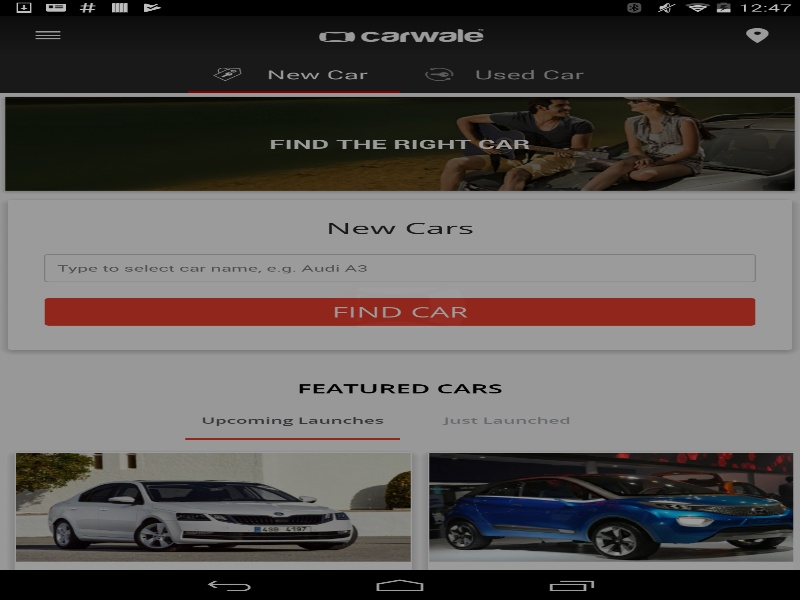Button: (44, 297, 756, 325), (10, 15, 85, 55)
Input: (44, 254, 756, 282)
